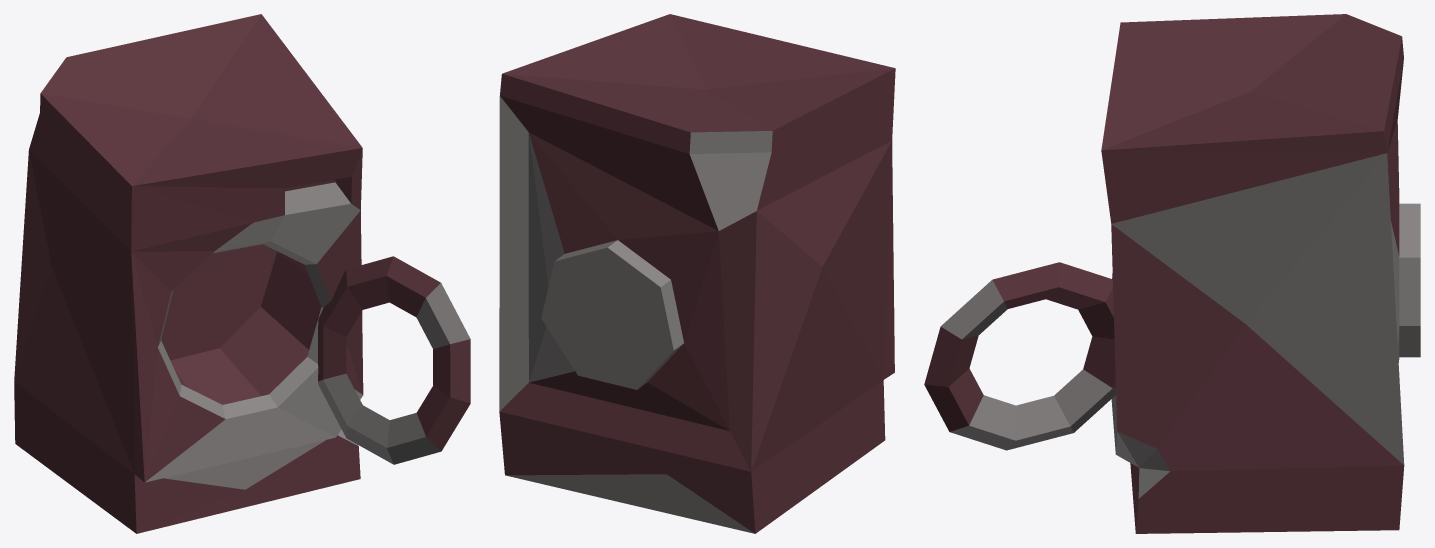
The model's file is washing-machine-broken.fbx.
3 views of the same model, side by side, from view 1: azimuth 30°, elevation 25°; view 2: azimuth 150°, elevation 25°; view 3: azimuth 270°, elevation 25° (orthographic). The views are drawn at different scales.
Parts seen in each view (by area): view 1: washing-machine-broken; view 2: washing-machine-broken; view 3: washing-machine-broken.
Part boxes in pixels (left/top/right/bottom): washing-machine-broken: left=14, top=14, right=470, bottom=533; washing-machine-broken: left=499, top=14, right=895, bottom=533; washing-machine-broken: left=924, top=14, right=1420, bottom=533.
Bounding box in the file's own units: 0.6948 × 0.9455 × 1.04.
